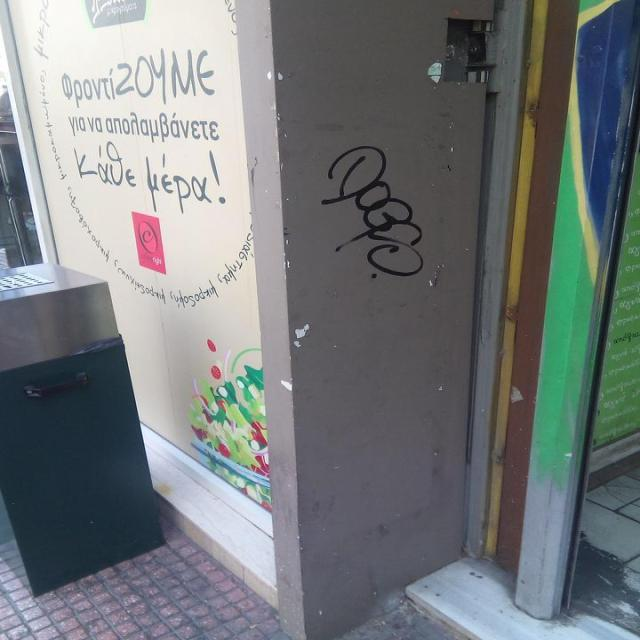nonspitting: (62, 46, 230, 215), (324, 142, 427, 284)
